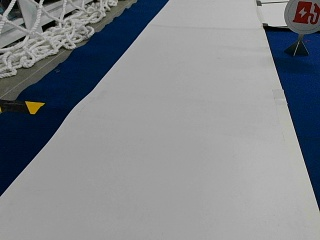battery: (284, 0, 320, 34)
